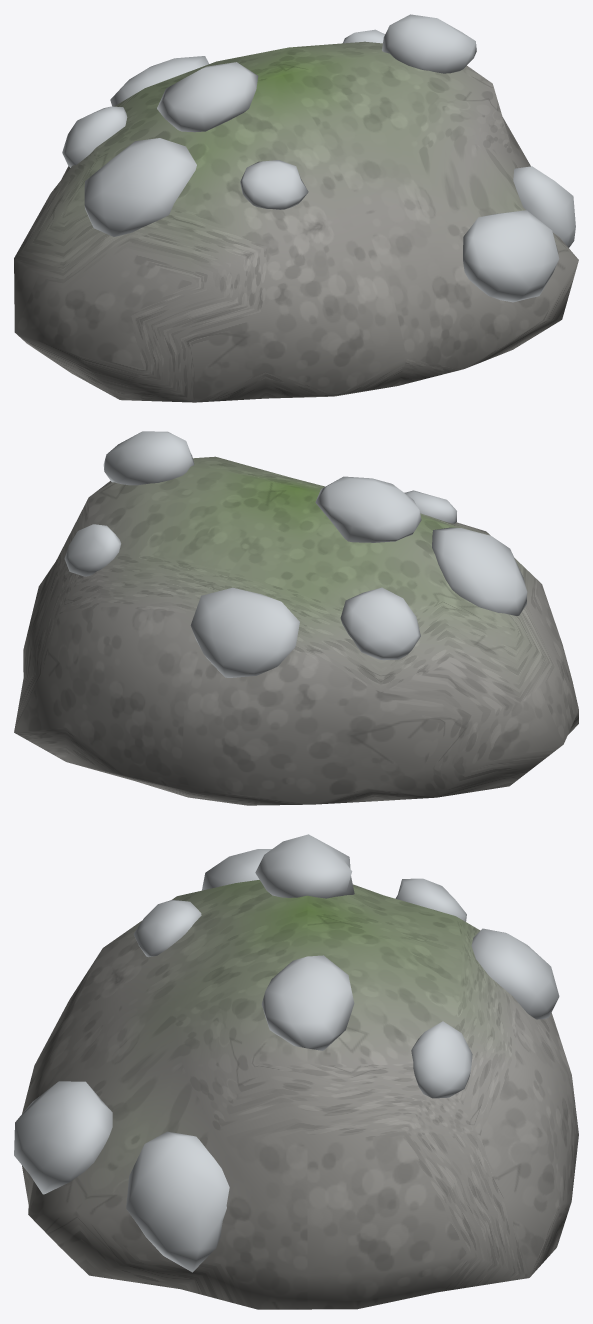
The model's file is ore_tin_boulder.glb.
3 views of the same model, one above another, from view 1: azimuth 30°, elevation 25°; view 2: azimuth 150°, elevation 25°; view 3: azimuth 270°, elevation 25° (orthographic). The views are drawn at different scales.
Visible parts, largest first — view 1: ore_tin_stone, ore_tin; view 2: ore_tin_stone, ore_tin; view 3: ore_tin_stone, ore_tin.
Part boxes in pixels (bbox=[...]): ore_tin_stone: bbox=[14, 41, 578, 402]; ore_tin: bbox=[62, 14, 575, 302]; ore_tin_stone: bbox=[14, 456, 578, 805]; ore_tin: bbox=[64, 431, 527, 677]; ore_tin_stone: bbox=[22, 880, 578, 1309]; ore_tin: bbox=[14, 834, 559, 1272].
Size of the model in its own units: 2.3 by 1.12 by 1.87.
Materials: 2 (1 with a texture image).
